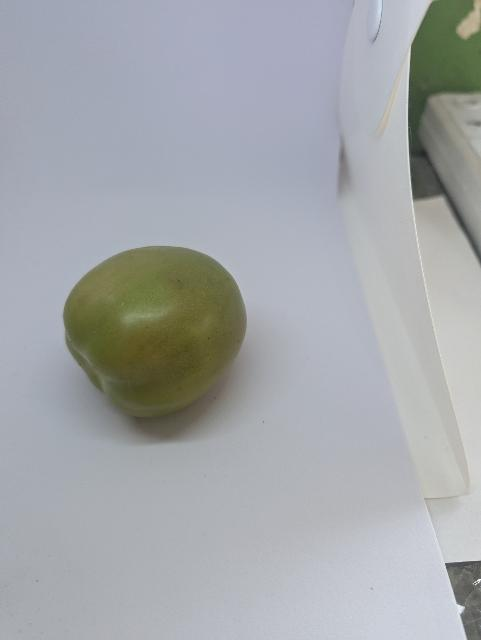green: (53, 231, 253, 423)
